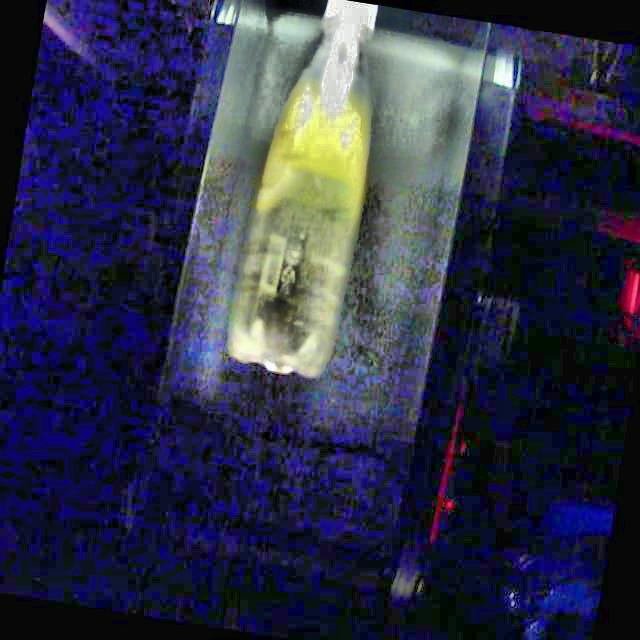plastic bottle: (230, 0, 378, 378)
